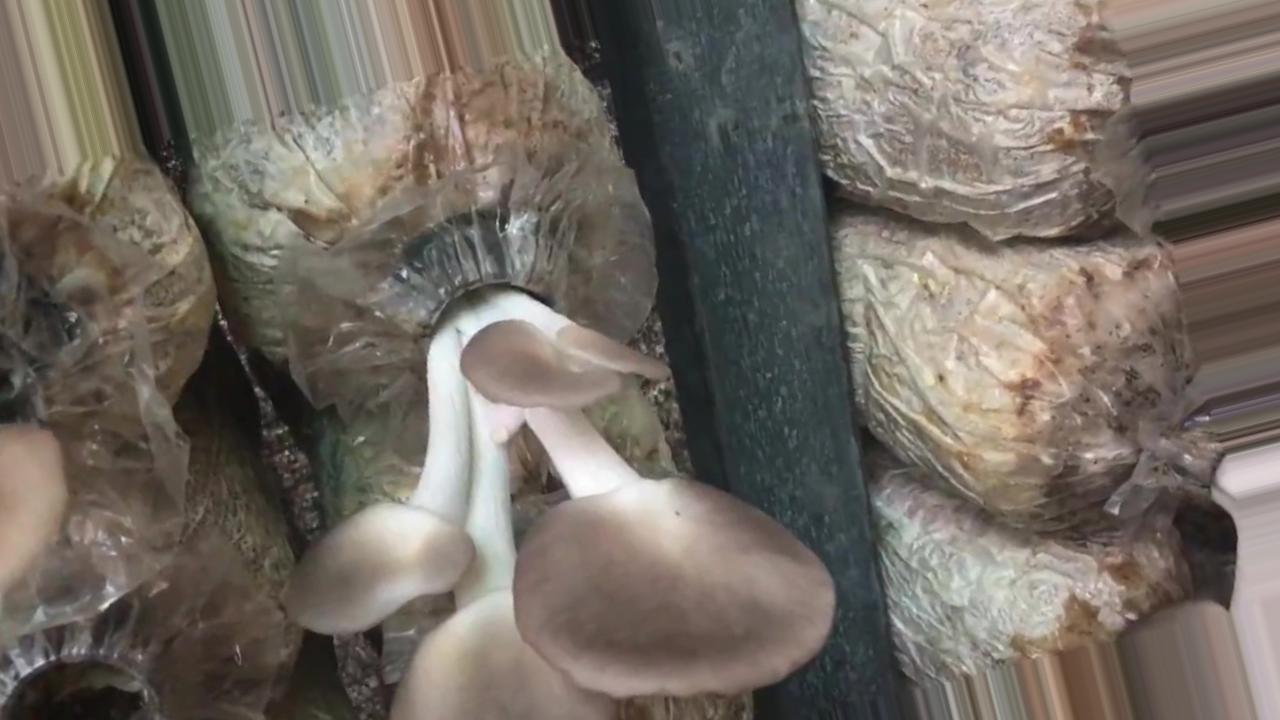nam: (287, 216, 835, 720)
